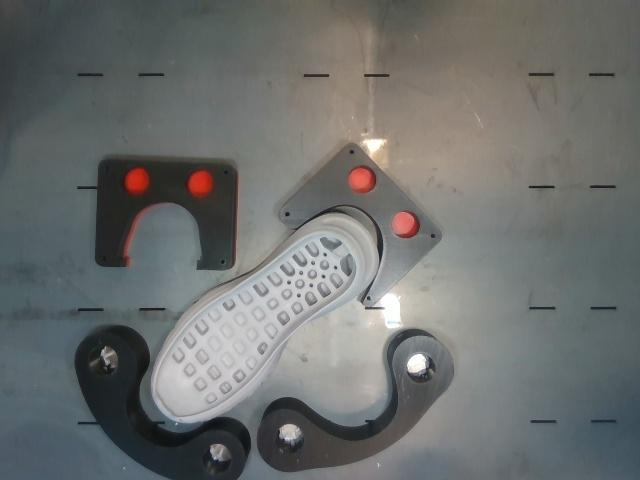shoes: (154, 235, 357, 418)
